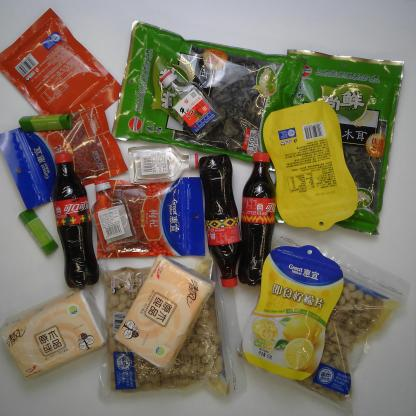Alcohol: (159, 70, 225, 140), (91, 178, 139, 252), (127, 144, 200, 185)
Dried Food: (110, 20, 307, 172), (284, 48, 406, 236), (272, 242, 399, 414), (98, 257, 232, 399)
Dried Fruit: (0, 97, 130, 210), (241, 244, 345, 382), (0, 6, 122, 116), (262, 100, 358, 232), (95, 177, 206, 259)
Drink: (51, 152, 100, 289), (198, 153, 243, 288), (237, 152, 277, 287)
Stationery: (17, 208, 59, 256), (18, 112, 72, 132)
Tissue: (112, 254, 218, 371), (0, 287, 108, 380)
